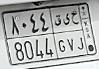0: (22, 22, 34, 60)
4: (40, 12, 55, 55)
8: (11, 15, 24, 61)
J: (72, 12, 84, 51)
